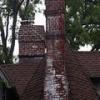chimneys: (19, 20, 45, 64)
